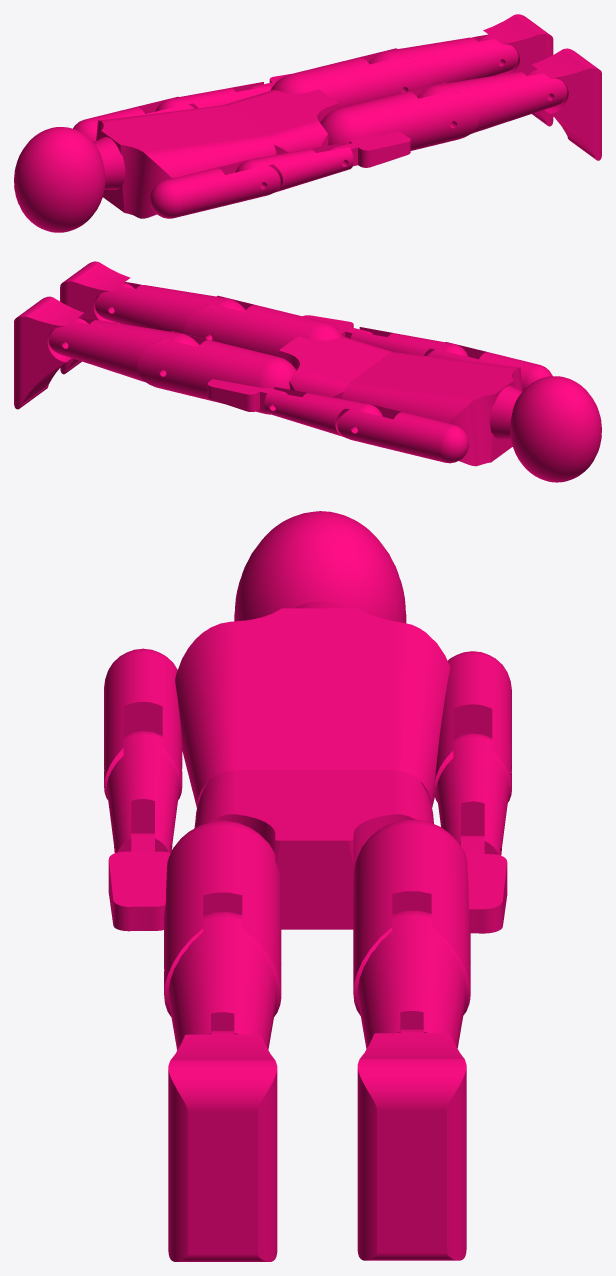
Rendered from Human3.gltf.
The picture shows the model from 3 angles, top to bottom: view 1: azimuth 30°, elevation 25°; view 2: azimuth 150°, elevation 25°; view 3: azimuth 270°, elevation 25°; orthographic projection. The views are drawn at different scales.
Visible parts, largest first — view 1: Torso_LW_Mass2, Ellipsoid, LL_UP_Mass, RL_UP_Mass, LA_UP_Mass, LL_LW_Mass, Torso_LW_Mass1, Common001, RL_LW_Mass, LA_LW_Mass, Common, LA_H_Mass (+3 smaller); view 2: Torso_LW_Mass2, Ellipsoid, RL_UP_Mass, LL_UP_Mass, RA_UP_Mass, RL_LW_Mass, Common, Torso_LW_Mass1, LL_LW_Mass, RA_LW_Mass, Common001, LA_LW_Mass (+4 smaller); view 3: Torso_LW_Mass2, Common, Common001, Torso_LW_Mass1, Ellipsoid, RL_UP_Mass, LL_UP_Mass, RL_LW_Mass, LL_LW_Mass, LA_UP_Mass, LA_LW_Mass, RA_UP_Mass (+3 smaller).
Boxes of the visible parts, <box> form: Torso_LW_Mass2: <box>96,105,276,218</box>; Ellipsoid: <box>14,127,105,232</box>; LL_UP_Mass: <box>320,82,478,150</box>; RL_UP_Mass: <box>271,48,430,108</box>; LA_UP_Mass: <box>150,157,280,218</box>; LL_LW_Mass: <box>417,69,567,133</box>; Torso_LW_Mass1: <box>225,89,338,154</box>; Common001: <box>528,48,601,160</box>; RL_LW_Mass: <box>368,34,518,85</box>; LA_LW_Mass: <box>235,142,353,192</box>; Common: <box>479,14,553,126</box>; LA_H_Mass: <box>330,132,410,167</box>; Torso_LW_Mass2: <box>341,352,522,466</box>; Ellipsoid: <box>510,376,601,482</box>; RL_UP_Mass: <box>137,331,296,414</box>; LL_UP_Mass: <box>183,295,343,356</box>; RA_UP_Mass: <box>337,402,468,463</box>; RL_LW_Mass: <box>49,317,199,382</box>; Common: <box>14,296,88,409</box>; Torso_LW_Mass1: <box>279,336,392,398</box>; LL_LW_Mass: <box>95,282,245,333</box>; RA_LW_Mass: <box>264,387,382,437</box>; Common001: <box>60,261,134,374</box>; LA_LW_Mass: <box>350,327,468,356</box>; Torso_LW_Mass2: <box>175,608,450,807</box>; Common: <box>357,1029,466,1260</box>; Common001: <box>168,1030,277,1261</box>; Torso_LW_Mass1: <box>194,770,433,929</box>; Ellipsoid: <box>234,511,406,623</box>; RL_UP_Mass: <box>353,819,470,1015</box>; LL_UP_Mass: <box>164,820,281,1016</box>; RL_LW_Mass: <box>357,910,466,1048</box>; LL_LW_Mass: <box>168,912,276,1050</box>; LA_UP_Mass: <box>104,648,182,799</box>; LA_LW_Mass: <box>106,731,179,852</box>; RA_UP_Mass: <box>434,651,511,802</box>.
Size of the model in its own units: 1.62 by 0.3545 by 0.5216.
